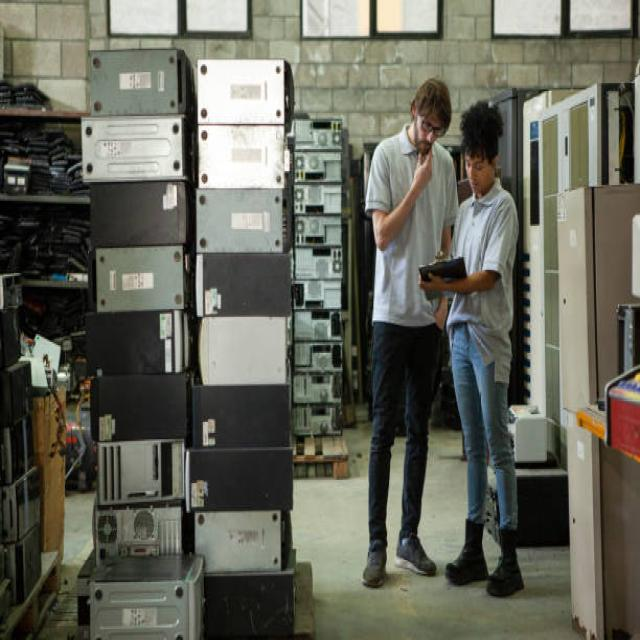metal: (193, 70, 292, 248)
plastic: (195, 386, 297, 527)
